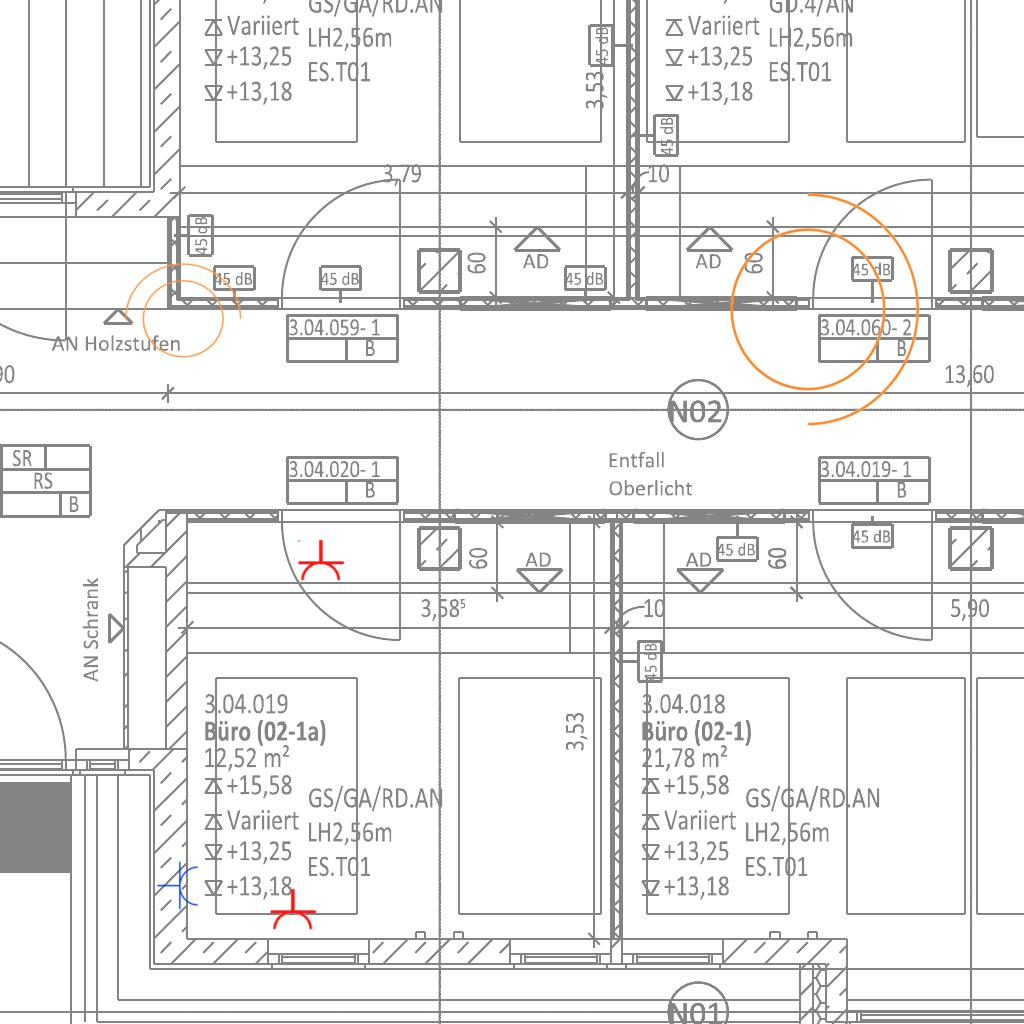Scheinwerfer_fuer_Alarmbeleuchtung: (705, 171, 930, 435), (114, 258, 246, 370)
Schukosteckdose_einfach: (295, 539, 345, 582), (157, 861, 200, 911), (267, 888, 317, 931)
